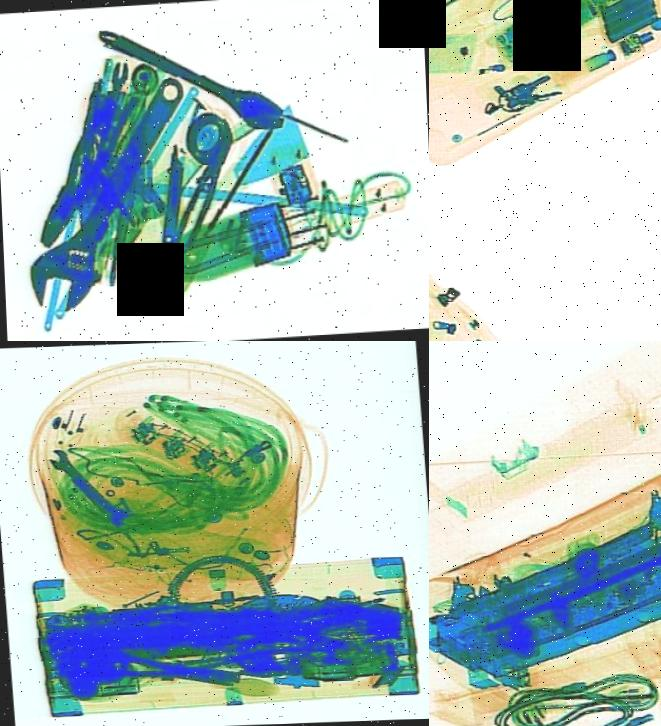Pliers: (15, 73, 159, 254), (162, 142, 239, 258), (105, 647, 212, 686)
Wrench: (6, 63, 222, 317), (41, 442, 136, 531), (104, 58, 135, 107)
